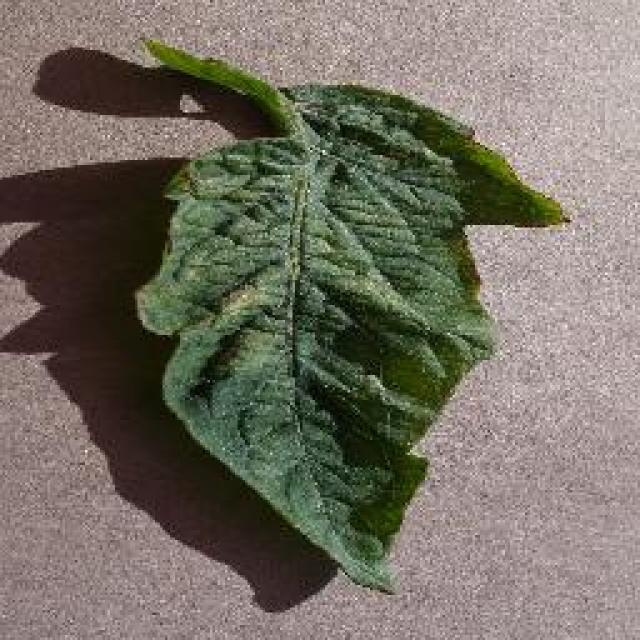Tomato___Spider_mites Two-spotted_spider_mite: (135, 42, 560, 590)
